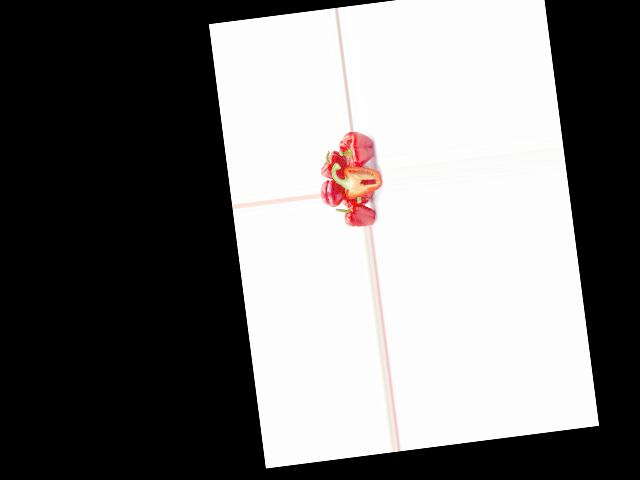bell_pepper: (318, 148, 345, 181)
